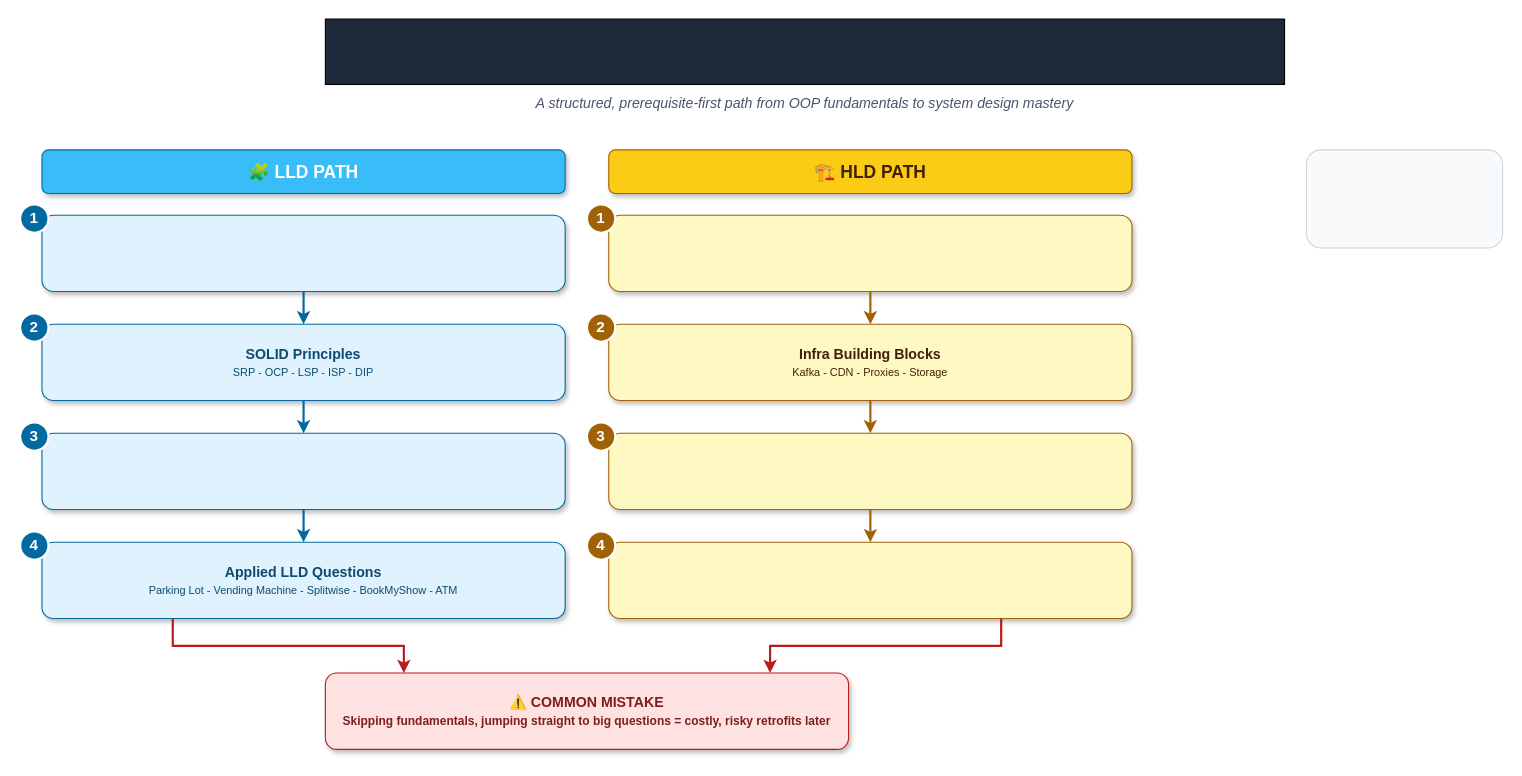
Image size: 1522x776. Some labels were removed from this diagram. Each missing label, with the centre of its shape:
Big System Questions WhatsApp - DynamoDB - Rate Limiter - Autocomplete: the point at 871,581
Core Concepts TCP/HTTP/WebSocket - CAP Theorem - Client-Server vs P2P: the point at 871,254
Design Patterns Strategy - Observer - Factory - Singleton - State: the point at 304,472
Legend ■ LLD step ■ HLD step ■ Risk / pitfall: the point at 1404,198
LLD & HLD INTERVIEW ROADMAP: the point at 804,51
OOP Fundamentals Inheritance - Polymorphism - Abstraction - Encapsulation: the point at 304,254
Scaling Techniques Sharding - Replication - Caching: the point at 871,472
